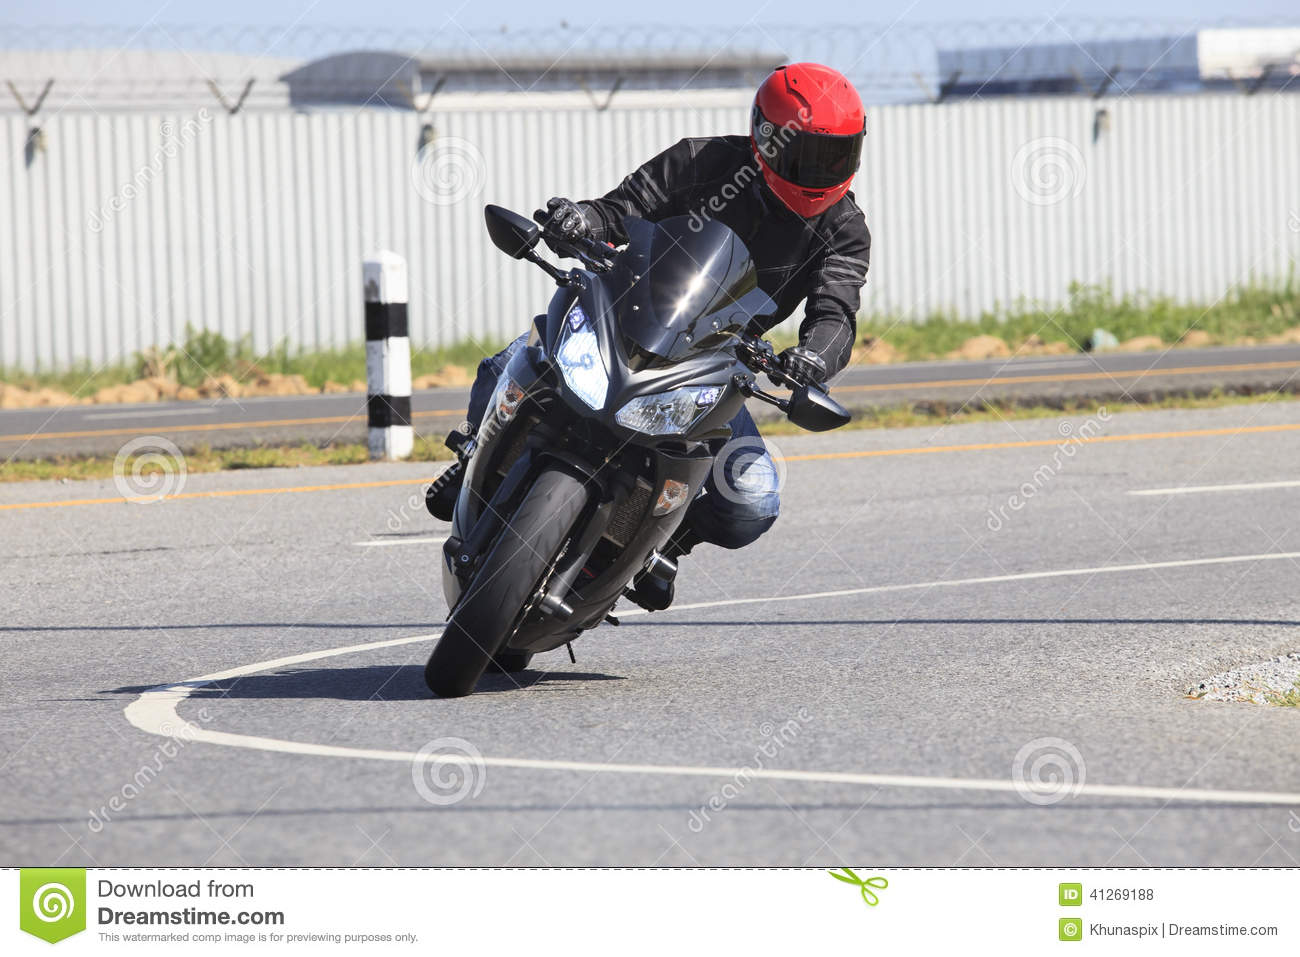helmet: (751, 71, 873, 210)
